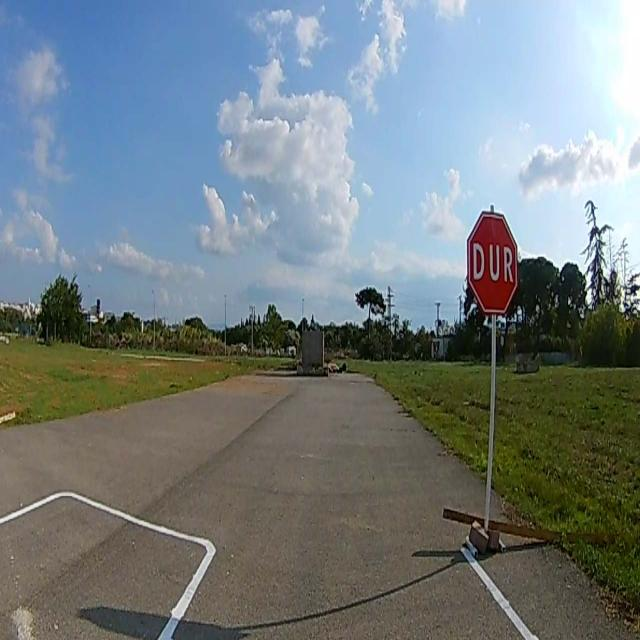dur: (467, 212, 517, 315)
